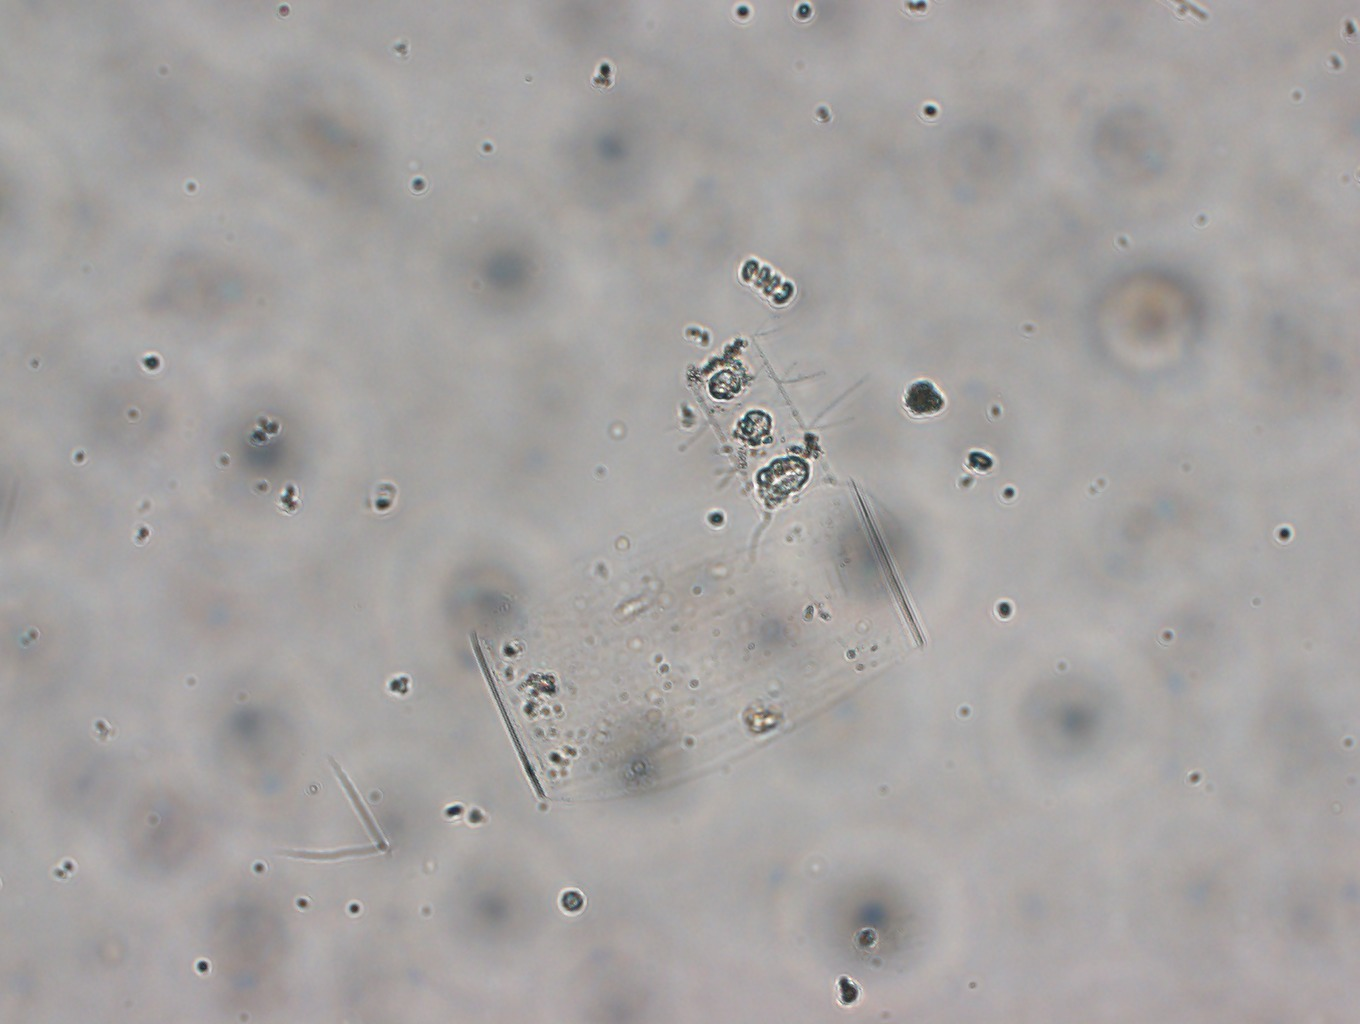chaetoceros: (634, 316, 884, 546)
